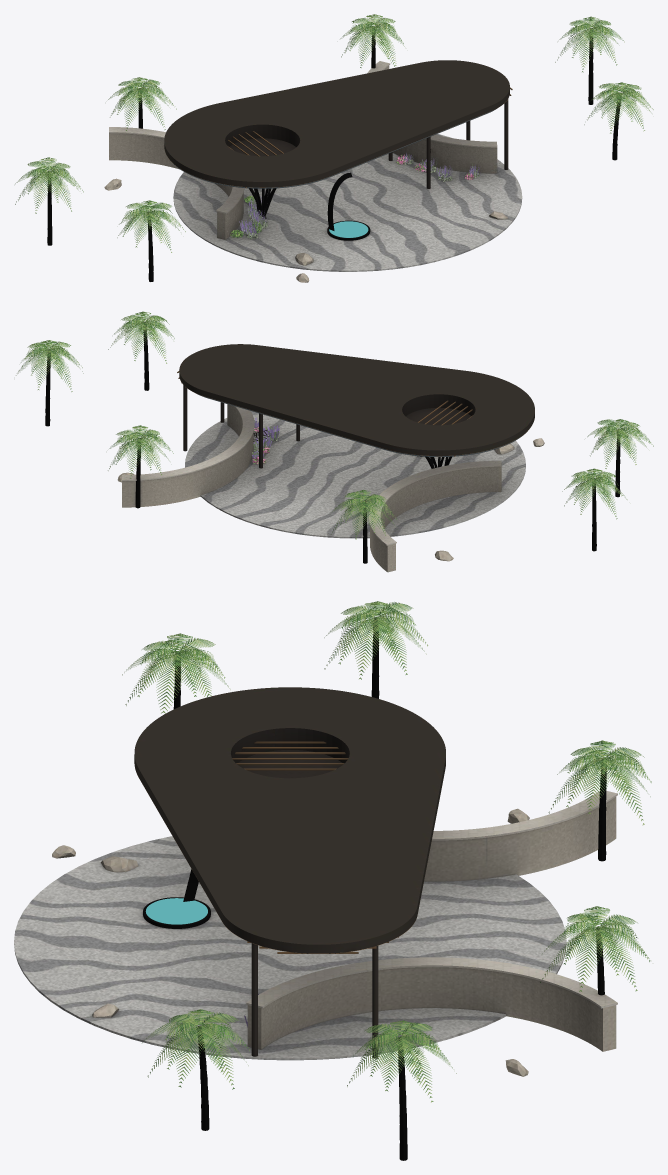
The model's file is entrance.gltf.
3 views of the same model, one above another, from view 1: azimuth 30°, elevation 25°; view 2: azimuth 150°, elevation 25°; view 3: azimuth 270°, elevation 25° (orthographic). The views are drawn at different scales.
Parts seen in each view (by area): view 1: EntranceGate, EntranceGate_Foliage; view 2: EntranceGate, EntranceGate_Foliage; view 3: EntranceGate, EntranceGate_Foliage.
Part boxes in pixels (x1,y1,x2,y2): EntranceGate: [104, 60, 522, 282]; EntranceGate_Foliage: [15, 14, 653, 281]; EntranceGate: [117, 344, 544, 572]; EntranceGate_Foliage: [16, 311, 653, 563]; EntranceGate: [14, 687, 617, 1076]; EntranceGate_Foliage: [122, 601, 651, 1160].
Size of the model in its own units: 78.11 by 10.39 by 45.16.
Materials: 8 (1 with a texture image).
